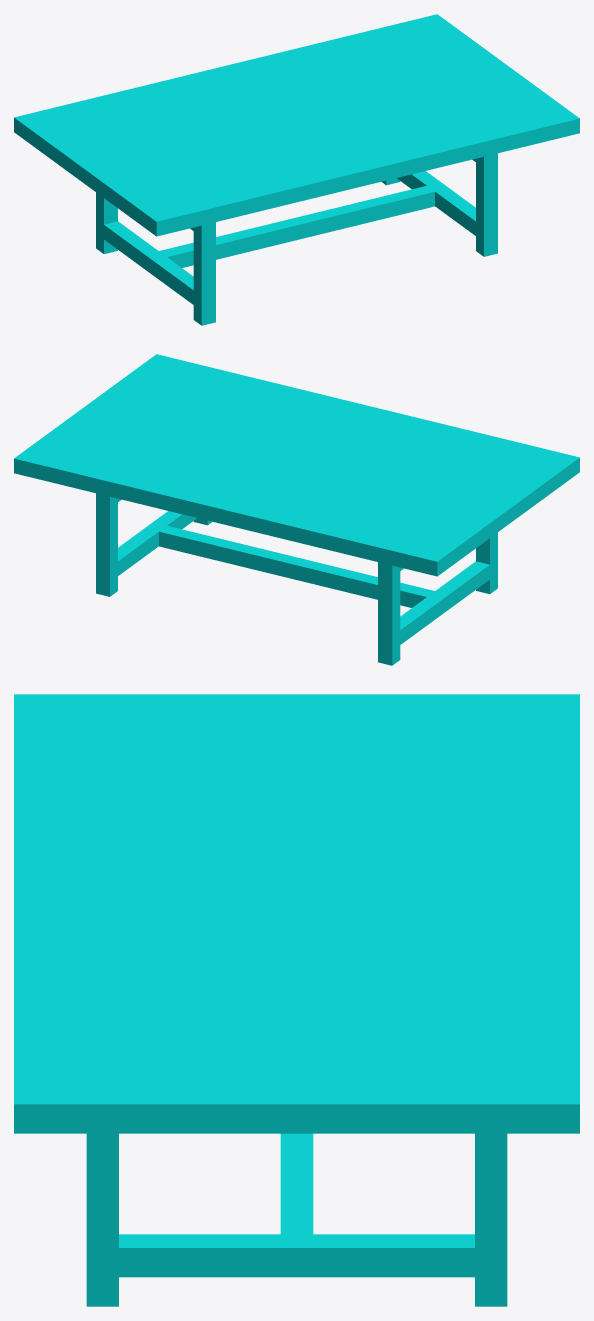
File: Table.fbx
3 views of the same model, one above another, from view 1: azimuth 30°, elevation 25°; view 2: azimuth 150°, elevation 25°; view 3: azimuth 270°, elevation 25° (orthographic). The views are drawn at different scales.
Visible parts, largest first — view 1: Table; view 2: Table; view 3: Table.
Boxes of the visible parts, bbox=[...] form: Table: bbox=[14, 14, 579, 325]; Table: bbox=[14, 354, 579, 665]; Table: bbox=[14, 694, 579, 1306].
Bounding box in the file's own units: 300 × 90 × 175.
